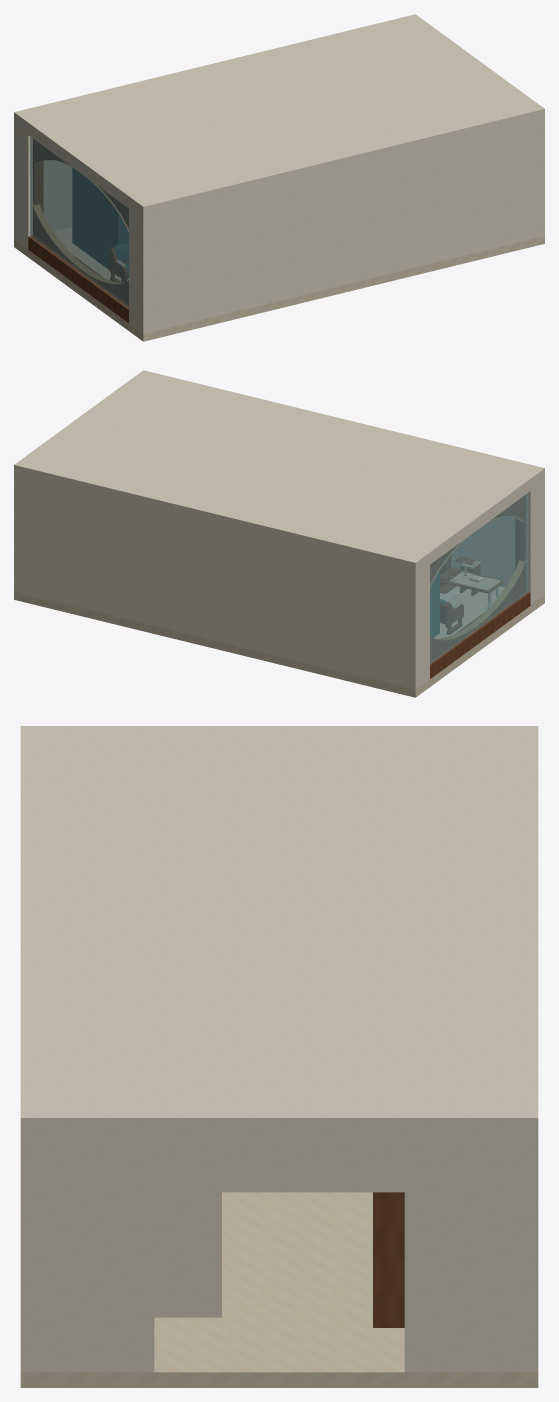
The model's file is QuietGroveBank_373_r001.glb.
3 renders of one model, top to bottom at view 1: azimuth 30°, elevation 25°; view 2: azimuth 150°, elevation 25°; view 3: azimuth 270°, elevation 25°, orthographic. The views are drawn at different scales.
Visible parts, largest first — view 1: QG373_Ceiling, QG373_SouthSide, QGB373_PrivateCourtGlass, QG373_RoomFloor, QG373_Cocoon_RearLiner, QGB373_CourtNorthPier, QG373_NorthSide, QGB373_CourtSouthPier, QGB373_CourtSill, QG373_OvalWindowReveal, QG373_OvalDepthReturn, QGB373_CourtHeader (+1 smaller); view 2: QG373_Ceiling, QG373_NorthSide, QGB373_PrivateCourtGlass, QG373_RoomFloor, QG373_SouthSide, QGB373_CourtSouthPier, QGB373_CourtNorthPier, QGB373_CourtSill, QG373_OvalWindowReveal, QG373_OvalDepthReturn, QGB373_CourtHeader, QGB373_DeepReveal_-265.99999999999994 (+2 smaller); view 3: QG373_Ceiling, QG373_RoomFloor, QG373_EntryShoulderNorth, QG373_EntryShoulderSouth, QG373_EntryHeader, QG373_WashEntrySide, QG373_EntryPrivacyDogleg, QG373_NorthSide, QG373_SouthSide.
Part boxes in pixels (x1,y1,x2,y2): QG373_Ceiling: [14, 14, 544, 211]; QG373_SouthSide: [141, 114, 544, 333]; QGB373_PrivateCourtGlass: [30, 136, 128, 308]; QG373_RoomFloor: [14, 227, 544, 341]; QG373_Cocoon_RearLiner: [73, 169, 116, 274]; QGB373_CourtNorthPier: [14, 118, 32, 249]; QG373_NorthSide: [14, 117, 71, 239]; QGB373_CourtSouthPier: [129, 202, 150, 332]; QGB373_CourtSill: [28, 236, 128, 322]; QG373_OvalWindowReveal: [35, 140, 128, 304]; QG373_OvalDepthReturn: [32, 160, 128, 283]; QGB373_CourtHeader: [28, 128, 128, 208]; QG373_Ceiling: [14, 370, 544, 567]; QG373_NorthSide: [14, 470, 417, 689]; QGB373_PrivateCourtGlass: [430, 492, 528, 664]; QG373_RoomFloor: [14, 586, 544, 697]; QG373_SouthSide: [447, 473, 544, 595]; QGB373_CourtSouthPier: [526, 474, 544, 605]; QGB373_CourtNorthPier: [408, 558, 429, 689]; QGB373_CourtSill: [430, 592, 530, 678]; QG373_OvalWindowReveal: [430, 496, 523, 660]; QG373_OvalDepthReturn: [430, 516, 526, 639]; QGB373_CourtHeader: [430, 484, 530, 564]; QGB373_DeepReveal_-265.99999999999994: [515, 495, 525, 591]; QG373_Ceiling: [20, 726, 538, 1128]; QG373_RoomFloor: [20, 1192, 538, 1387]; QG373_EntryShoulderNorth: [404, 1128, 529, 1372]; QG373_EntryShoulderSouth: [29, 1128, 154, 1372]; QG373_EntryHeader: [150, 1128, 408, 1192]; QG373_WashEntrySide: [154, 1192, 221, 1317]; QG373_EntryPrivacyDogleg: [373, 1192, 404, 1327]; QG373_NorthSide: [529, 1128, 538, 1372]; QG373_SouthSide: [20, 1128, 29, 1372].
Size of the model in its own units: 12.9 by 4.14 by 7.2.
58 materials, 43 textured.
